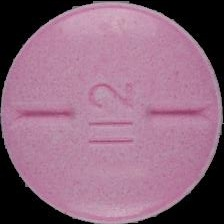67544-891: (0, 0, 224, 224)
